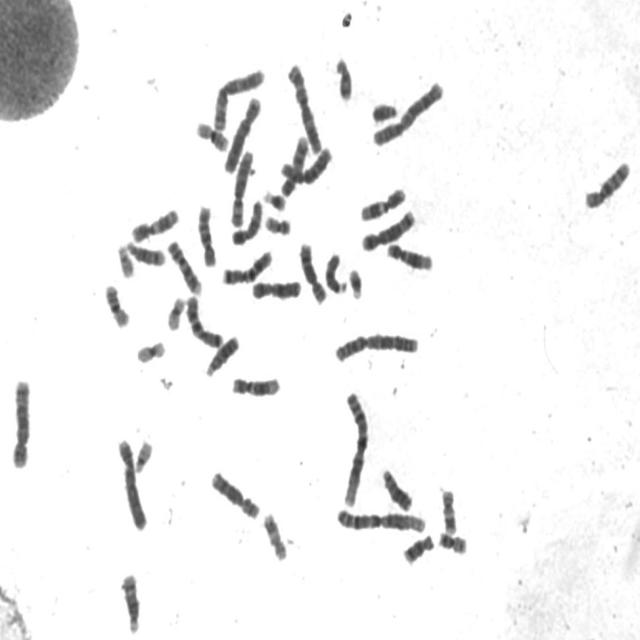A1: (338, 384, 371, 509), (333, 500, 429, 535)
A2: (368, 74, 446, 148), (330, 325, 421, 363)
A3: (282, 56, 324, 156), (209, 61, 267, 131)
B4: (219, 90, 263, 174), (113, 431, 149, 532)
B5: (356, 203, 417, 252), (6, 371, 34, 470)
C10: (580, 153, 632, 211), (193, 197, 218, 268)
C11: (356, 180, 408, 223), (387, 240, 432, 273)
C12: (126, 201, 181, 243), (228, 370, 282, 398)
C6: (275, 139, 334, 189), (226, 144, 256, 228)
C7: (181, 288, 225, 349), (217, 244, 274, 286)
C8: (206, 464, 262, 521), (294, 235, 328, 305)
C9: (163, 234, 204, 296), (276, 128, 311, 198)
D13: (201, 328, 241, 377), (377, 461, 414, 512)
D14: (116, 566, 143, 635), (121, 235, 167, 267)
D15: (223, 202, 265, 248), (321, 247, 348, 294)
E16: (100, 277, 131, 329), (191, 114, 231, 152)
E17: (259, 504, 288, 562), (436, 482, 459, 535)
E18: (399, 527, 436, 566), (331, 51, 354, 102)
F19: (131, 333, 167, 365), (162, 290, 187, 331)
F20: (434, 524, 469, 556), (260, 209, 292, 236)
G21: (260, 184, 288, 212), (344, 262, 364, 300)
G22: (130, 433, 154, 474), (113, 238, 136, 279)
X: (248, 272, 304, 302)
Y: (367, 94, 399, 126)
